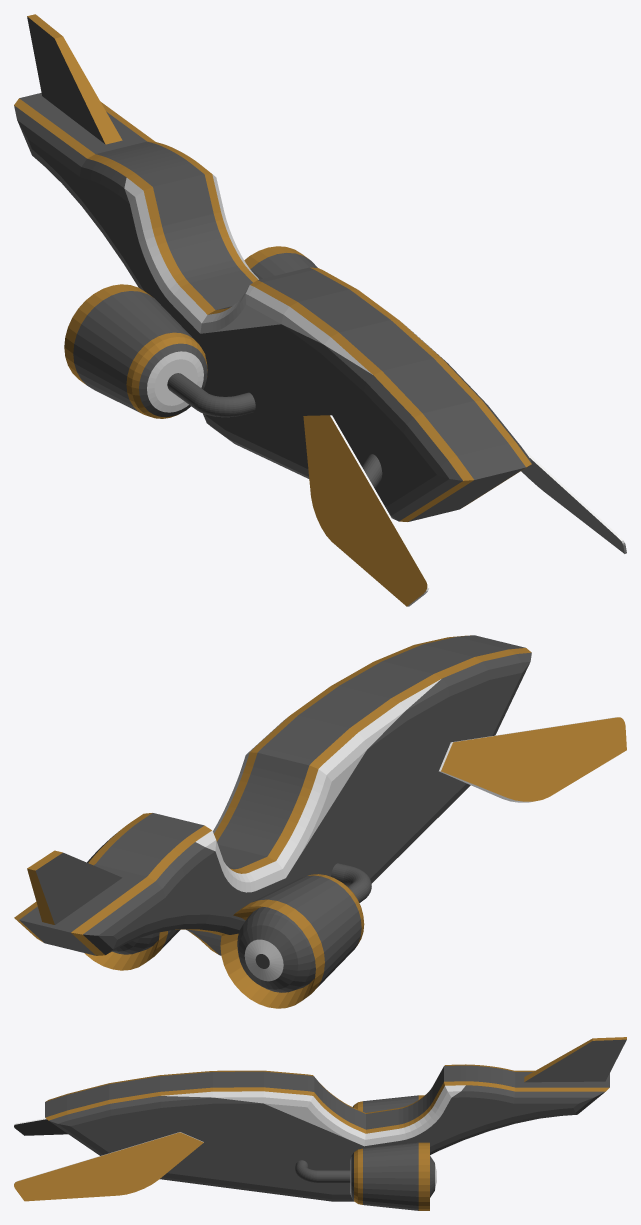
Rendered from speeder.glb.
3 renders of one model, top to bottom at view 1: azimuth 30°, elevation 25°; view 2: azimuth 150°, elevation 25°; view 3: azimuth 270°, elevation 25°, orthographic. The views are drawn at different scales.
Parts seen in each view (by area): view 1: Plane; view 2: Plane; view 3: Plane.
Boxes of the visible parts, x1,y1,x2,y2 form: Plane: (14,14,626,606); Plane: (14,635,626,1008); Plane: (14,1037,626,1210).
Bounding box in the file's own units: 1.18 × 1.11 × 4.
